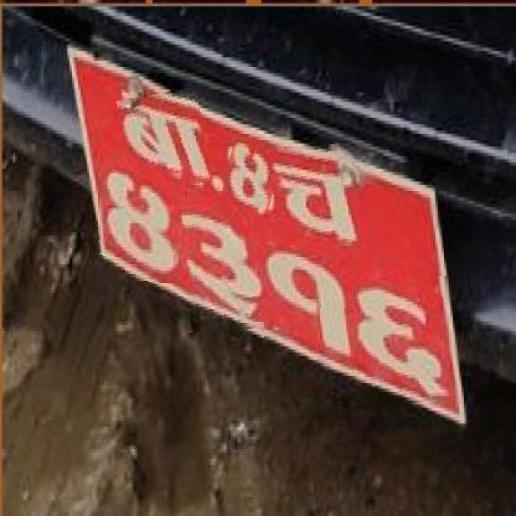1: (264, 245, 352, 370)
3: (179, 200, 264, 332)
4: (96, 167, 181, 282), (222, 138, 281, 219)
6: (354, 277, 450, 405)
ba: (120, 90, 209, 192)
cha: (272, 144, 360, 250)
